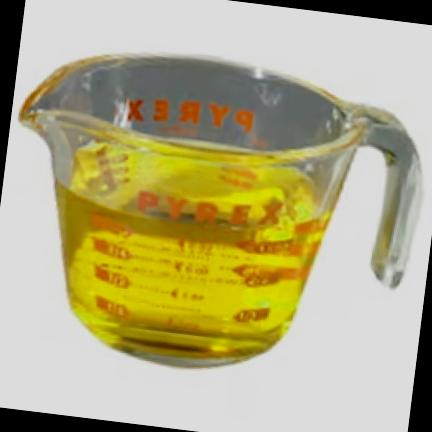container: (19, 54, 353, 366)
fluid: (58, 178, 322, 362)
fluid-surface: (65, 138, 330, 228)
